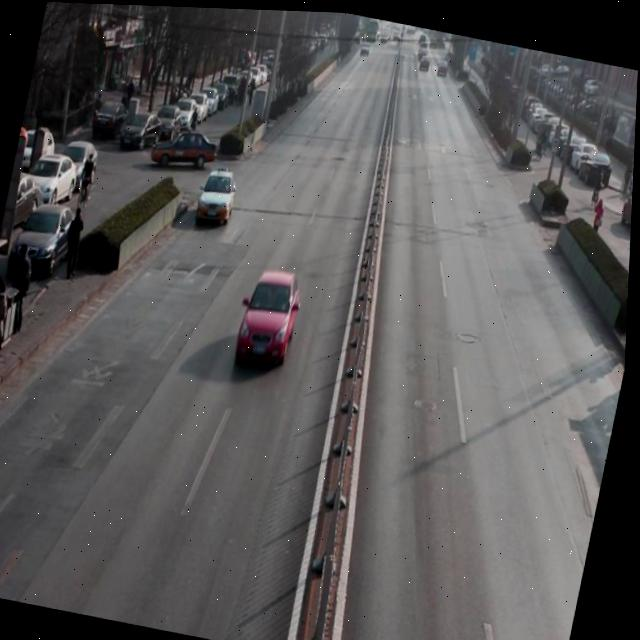car: (236, 257, 309, 372), (196, 159, 243, 234)
